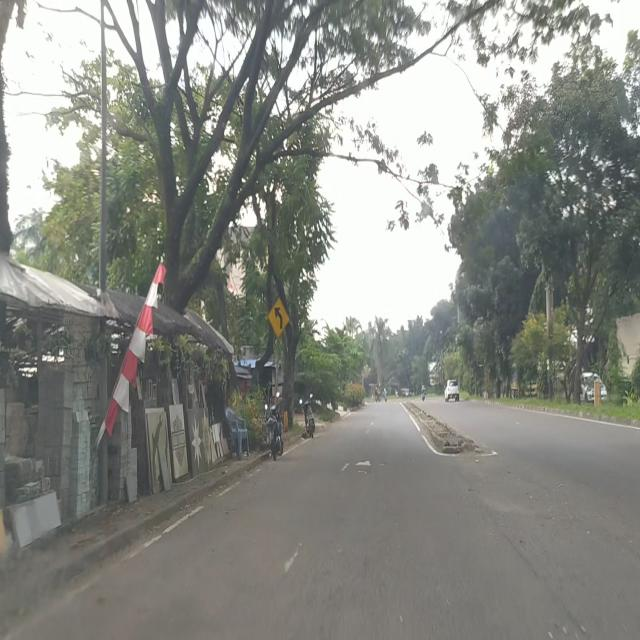Sewer Cover: (453, 461, 586, 640)
